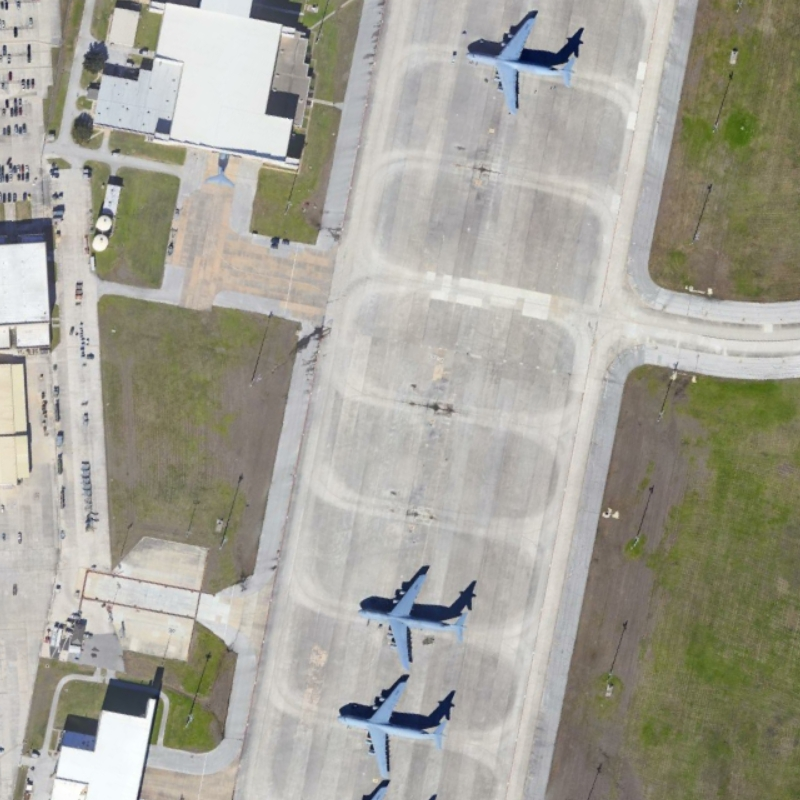A4: (453, 6, 581, 120), (349, 564, 476, 669), (333, 671, 456, 779)
